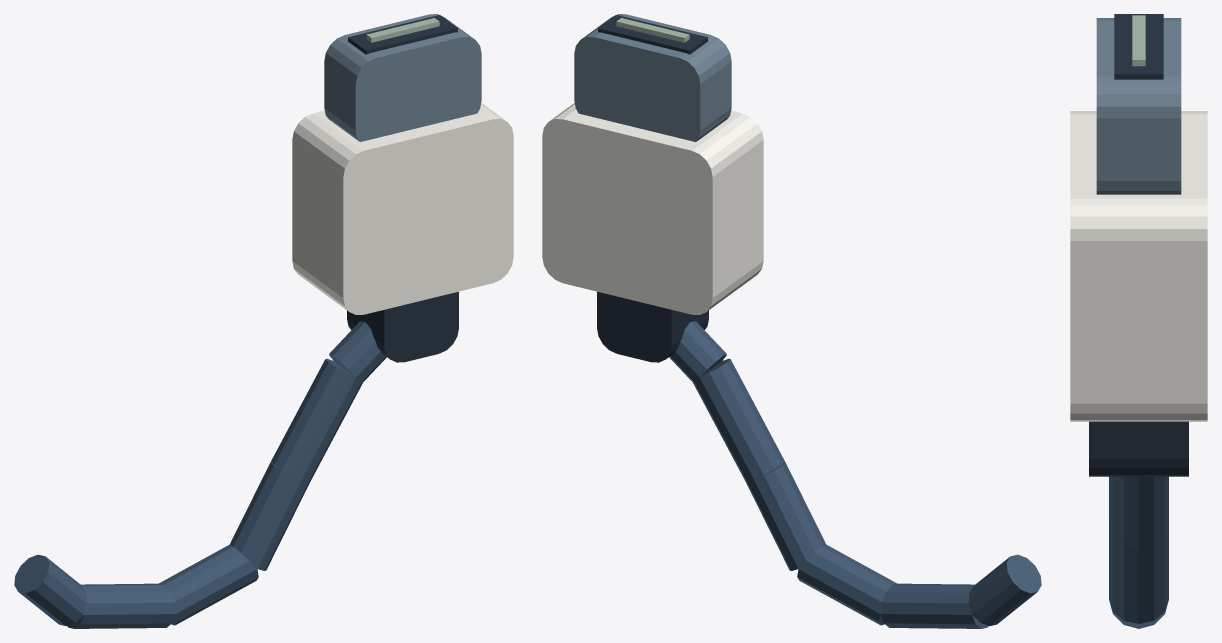
The model's file is usbc.glb.
3 renders of one model, left to right at view 1: azimuth 30°, elevation 25°; view 2: azimuth 150°, elevation 25°; view 3: azimuth 270°, elevation 25°, orthographic. The views are drawn at different scales.
Visible parts, largest first — view 1: plug sleeve, metal plug, rubber cable4, strain relief, rubber cable3, rubber cable1, rubber cable2, rubber cable0, rubber cable5, plug opening, contact tongue; view 2: plug sleeve, metal plug, rubber cable4, strain relief, rubber cable3, rubber cable1, rubber cable2, rubber cable0, rubber cable5, plug opening, contact tongue; view 3: plug sleeve, metal plug, strain relief, rubber cable3, rubber cable4, plug opening, contact tongue, rubber cable2.
Boxes of the visible parts, x1,y1,x2,y2 form: plug sleeve: (292,103,513,314); metal plug: (324,14,481,141); rubber cable4: (271,358,362,481); strain relief: (347,291,458,362); rubber cable3: (230,462,309,570); rubber cable1: (67,583,175,628); rubber cable2: (159,544,258,625); rubber cable0: (14,554,87,626); rubber cable5: (329,321,386,381); plug opening: (348,15,457,54); contact tongue: (366,18,439,42); plug sleeve: (542,103,763,314); metal plug: (574,14,731,141); rubber cable4: (693,358,784,481); strain relief: (597,291,708,362); rubber cable3: (746,462,825,570); rubber cable1: (880,583,988,628); rubber cable2: (797,544,896,625); rubber cable0: (968,554,1041,626); rubber cable5: (669,321,726,381); plug opening: (598,15,707,54); contact tongue: (616,18,689,42); plug sleeve: (1070,111,1207,421); metal plug: (1096,18,1181,194); strain relief: (1089,421,1188,476); rubber cable3: (1109,524,1168,623); rubber cable4: (1109,476,1168,547); plug opening: (1114,14,1163,79); contact tongue: (1132,15,1145,66); rubber cable2: (1109,602,1168,628).
Bounding box in the file's own units: 1.38 × 1.51 × 0.26.
